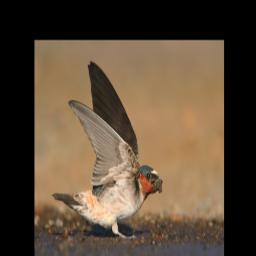Swallow: (51, 60, 163, 241)
